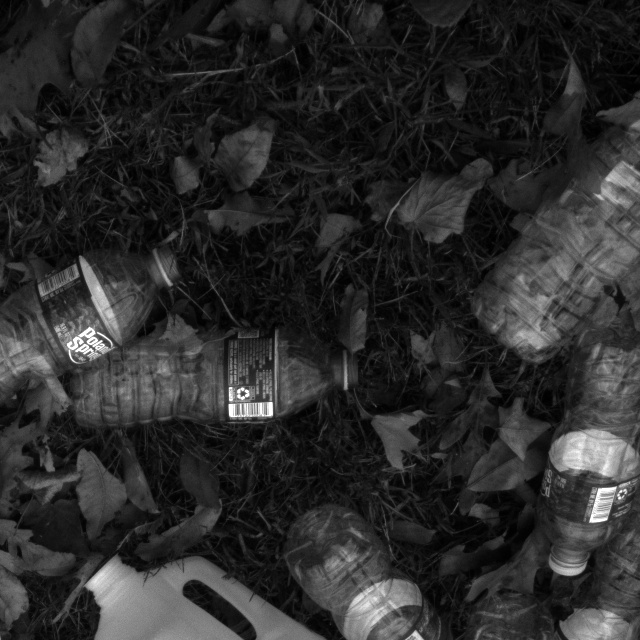bottle: (471, 63, 640, 359), (0, 232, 179, 431), (67, 317, 351, 438), (531, 332, 640, 583), (283, 498, 445, 640), (538, 488, 640, 640), (442, 571, 544, 640)
can: (86, 547, 389, 640)
